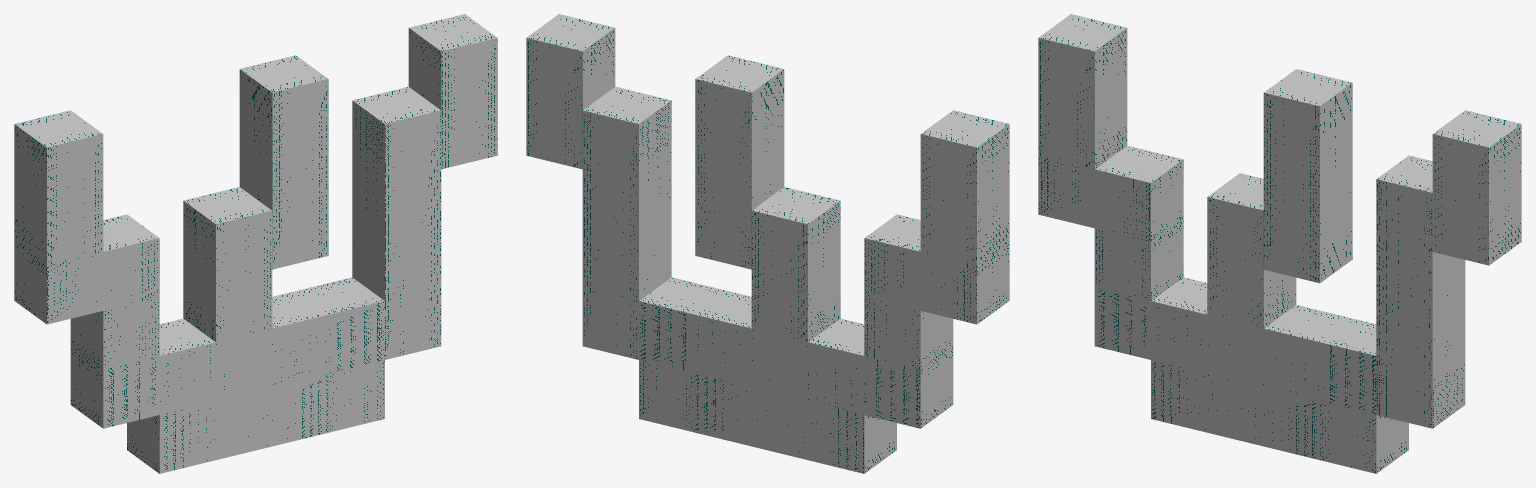
File: grass-02.fbx
3 renders of one model, left to right at view 1: azimuth 30°, elevation 25°; view 2: azimuth 150°, elevation 25°; view 3: azimuth 330°, elevation 25°, orthographic.
Visible parts, largest first — view 1: generated; view 2: generated; view 3: generated.
Part boxes in pixels (x1,y1,x2,y2): generated: (14,14,497,473); generated: (526,14,1009,473); generated: (1038,14,1521,473).
Bounding box in the file's own units: 80 × 60 × 10.
Materials: 1 (1 with a texture image).
